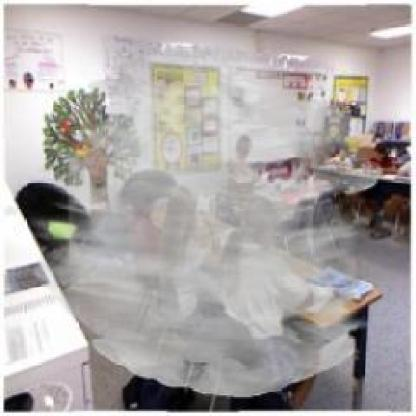Smoke: (26, 44, 385, 398)
